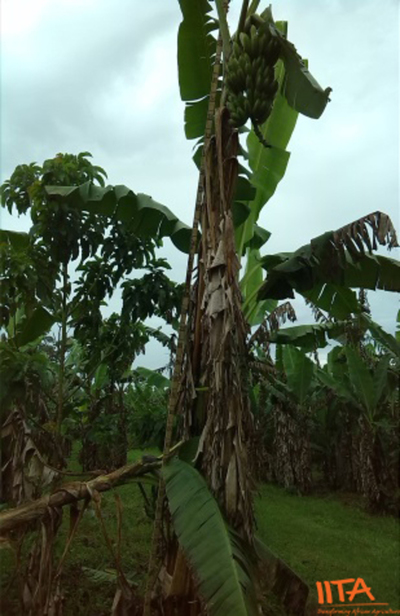bananaHand: (222, 22, 285, 129)
